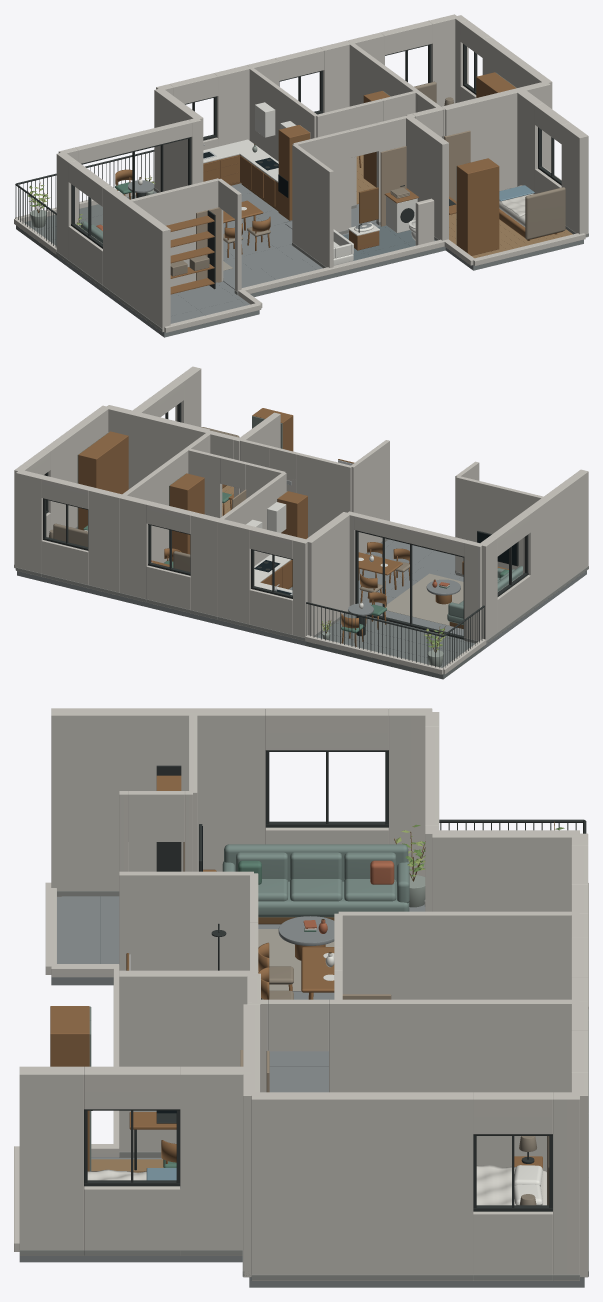
Rendered from apartment-v2.glb.
The picture shows the model from 3 angles, top to bottom: view 1: azimuth 30°, elevation 25°; view 2: azimuth 150°, elevation 25°; view 3: azimuth 270°, elevation 25°; orthographic projection. The views are drawn at different scales.
Visible parts, largest first — view 1: RV_West facade end, RV_Main south end, RV_Bath west, RV_Guest wardrobe carcass, RV_Bath protected wall, RV_Storage north, RV_Balcony kitchen return, RV_Apartment slab, RV_Protected east end, RV_Kitchen child partition end, RV_Bath north pier 0, RV_North kitchen end (+54 smaller); view 2: RV_West facade end, RV_Balcony kitchen return, RV_Terrace slab, RV_Main south end, RV_Storage north, RV_North kitchen end, RV_Bath north pier 0, RV_North main pier 0, RV_Main east end, RV_Bath west, RV_North child pier 0, RV_North child end (+39 smaller); view 3: RV_Main east end, RV_West facade end, RV_Main partition pier 0, RV_Kitchen child partition end, RV_Bath protected wall, RV_Bath west, RV_Protected east end, RV_Protected east pier 0, RV_Balcony kitchen return, RV_Protected east sill 0, RV_West facade pier 0, RV_West facade lintel 0 (+36 smaller).
Part boxes in pixels (x1=…): RV_West facade end: x1=103, y1=186, x2=170, y2=332; RV_Main south end: x1=442, y1=82, x2=550, y2=190; RV_Bath west: x1=292, y1=144, x2=333, y2=267; RV_Guest wardrobe carcass: x1=457, y1=158, x2=499, y2=255; RV_Bath protected wall: x1=405, y1=115, x2=448, y2=240; RV_Storage north: x1=130, y1=178, x2=218, y2=286; RV_Balcony kitchen return: x1=154, y1=88, x2=203, y2=191; RV_Apartment slab: x1=58, y1=204, x2=583, y2=337; RV_Protected east end: x1=561, y1=123, x2=588, y2=237; RV_Kitchen child partition end: x1=249, y1=67, x2=316, y2=161; RV_Bath north pier 0: x1=293, y1=130, x2=351, y2=234; RV_North kitchen end: x1=214, y1=65, x2=250, y2=146; RV_West facade end: x1=523, y1=469, x2=588, y2=607; RV_Balcony kitchen return: x1=304, y1=512, x2=350, y2=636; RV_Terrace slab: x1=306, y1=614, x2=484, y2=679; RV_Main south end: x1=107, y1=405, x2=209, y2=489; RV_Storage north: x1=456, y1=476, x2=543, y2=576; RV_North kitchen end: x1=217, y1=519, x2=253, y2=627; RV_Bath north pier 0: x1=296, y1=453, x2=351, y2=537; RV_North main pier 0: x1=88, y1=487, x2=123, y2=595; RV_Main east end: x1=43, y1=405, x2=109, y2=529; RV_Bath west: x1=351, y1=440, x2=389, y2=553; RV_North child pier 0: x1=190, y1=512, x2=220, y2=619; RV_North child end: x1=120, y1=495, x2=150, y2=602; RV_Main east end: x1=251, y1=1092, x2=473, y2=1280; RV_West facade end: x1=51, y1=708, x2=265, y2=896; RV_Main partition pier 0: x1=329, y1=999, x2=579, y2=1171; RV_Kitchen child partition end: x1=338, y1=911, x2=579, y2=999; RV_Bath protected wall: x1=119, y1=970, x2=253, y2=1157; RV_Bath west: x1=119, y1=871, x2=253, y2=970; RV_Protected east end: x1=19, y1=1066, x2=83, y2=1255; RV_Protected east pier 0: x1=180, y1=1066, x2=251, y2=1255; RV_Balcony kitchen return: x1=432, y1=830, x2=579, y2=911; RV_Protected east sill 0: x1=84, y1=1186, x2=180, y2=1255; RV_West facade pier 0: x1=389, y1=708, x2=432, y2=876; RV_West facade lintel 0: x1=265, y1=708, x2=388, y2=750.
Bounding box in the file's own units: 13.17 × 3.01 × 8.18.
